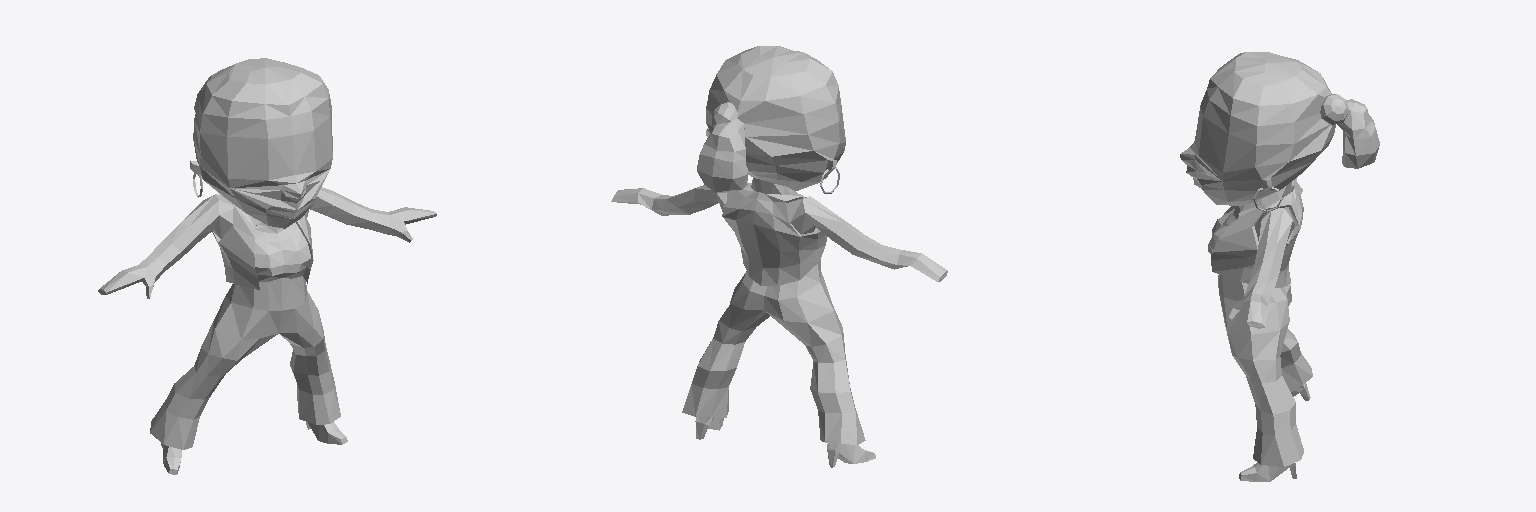
The model's file is bailarina_000090.obj.
3 renders of one model, left to right at view 1: azimuth 30°, elevation 25°; view 2: azimuth 150°, elevation 25°; view 3: azimuth 270°, elevation 25°, orthographic.
Visible parts, largest first — view 1: bAilarina:Mesh; view 2: bAilarina:Mesh; view 3: bAilarina:Mesh.
Boxes of the visible parts, x1=… form: bAilarina:Mesh: x1=98, y1=58, x2=436, y2=474; bAilarina:Mesh: x1=611, y1=46, x2=947, y2=467; bAilarina:Mesh: x1=1180, y1=52, x2=1379, y2=481.
Bounding box in the file's own units: 14.97 × 16.76 × 7.88.